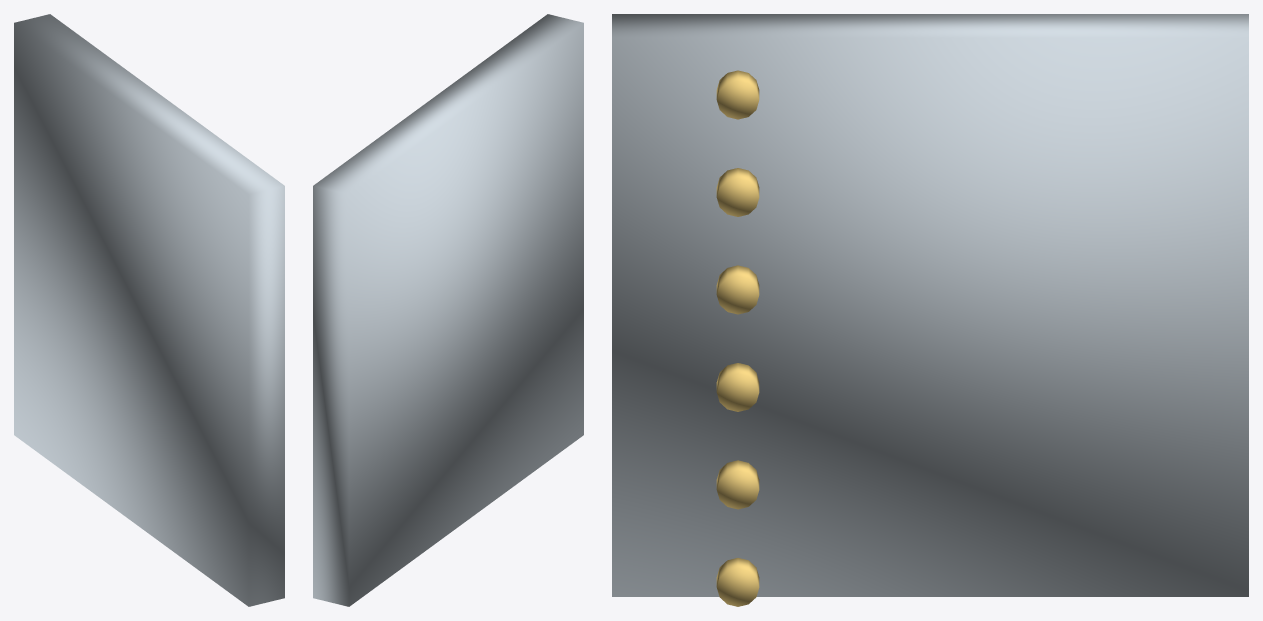
File: 05_L86_CargoServiceBayHatch.glb
The picture shows the model from 3 angles, left to right: view 1: azimuth 30°, elevation 25°; view 2: azimuth 150°, elevation 25°; view 3: azimuth 270°, elevation 25°; orthographic projection. The views are drawn at different scales.
Parts seen in each view (by area): view 1: L86_CargoServiceBayHatch_Part_0000; view 2: L86_CargoServiceBayHatch_Part_0000; view 3: L86_CargoServiceBayHatch_Part_0000, L86_CargoServiceBayHatch_Part_0002, L86_CargoServiceBayHatch_Part_0001.
Part boxes in pixels (bbox=[...]): L86_CargoServiceBayHatch_Part_0000: bbox=[14, 14, 284, 606]; L86_CargoServiceBayHatch_Part_0000: bbox=[313, 14, 583, 606]; L86_CargoServiceBayHatch_Part_0000: bbox=[612, 14, 1248, 596]; L86_CargoServiceBayHatch_Part_0002: bbox=[716, 70, 759, 411]; L86_CargoServiceBayHatch_Part_0001: bbox=[716, 460, 759, 606].
Bounding box in the file's own units: 0.315 × 2.18 × 2.25.
